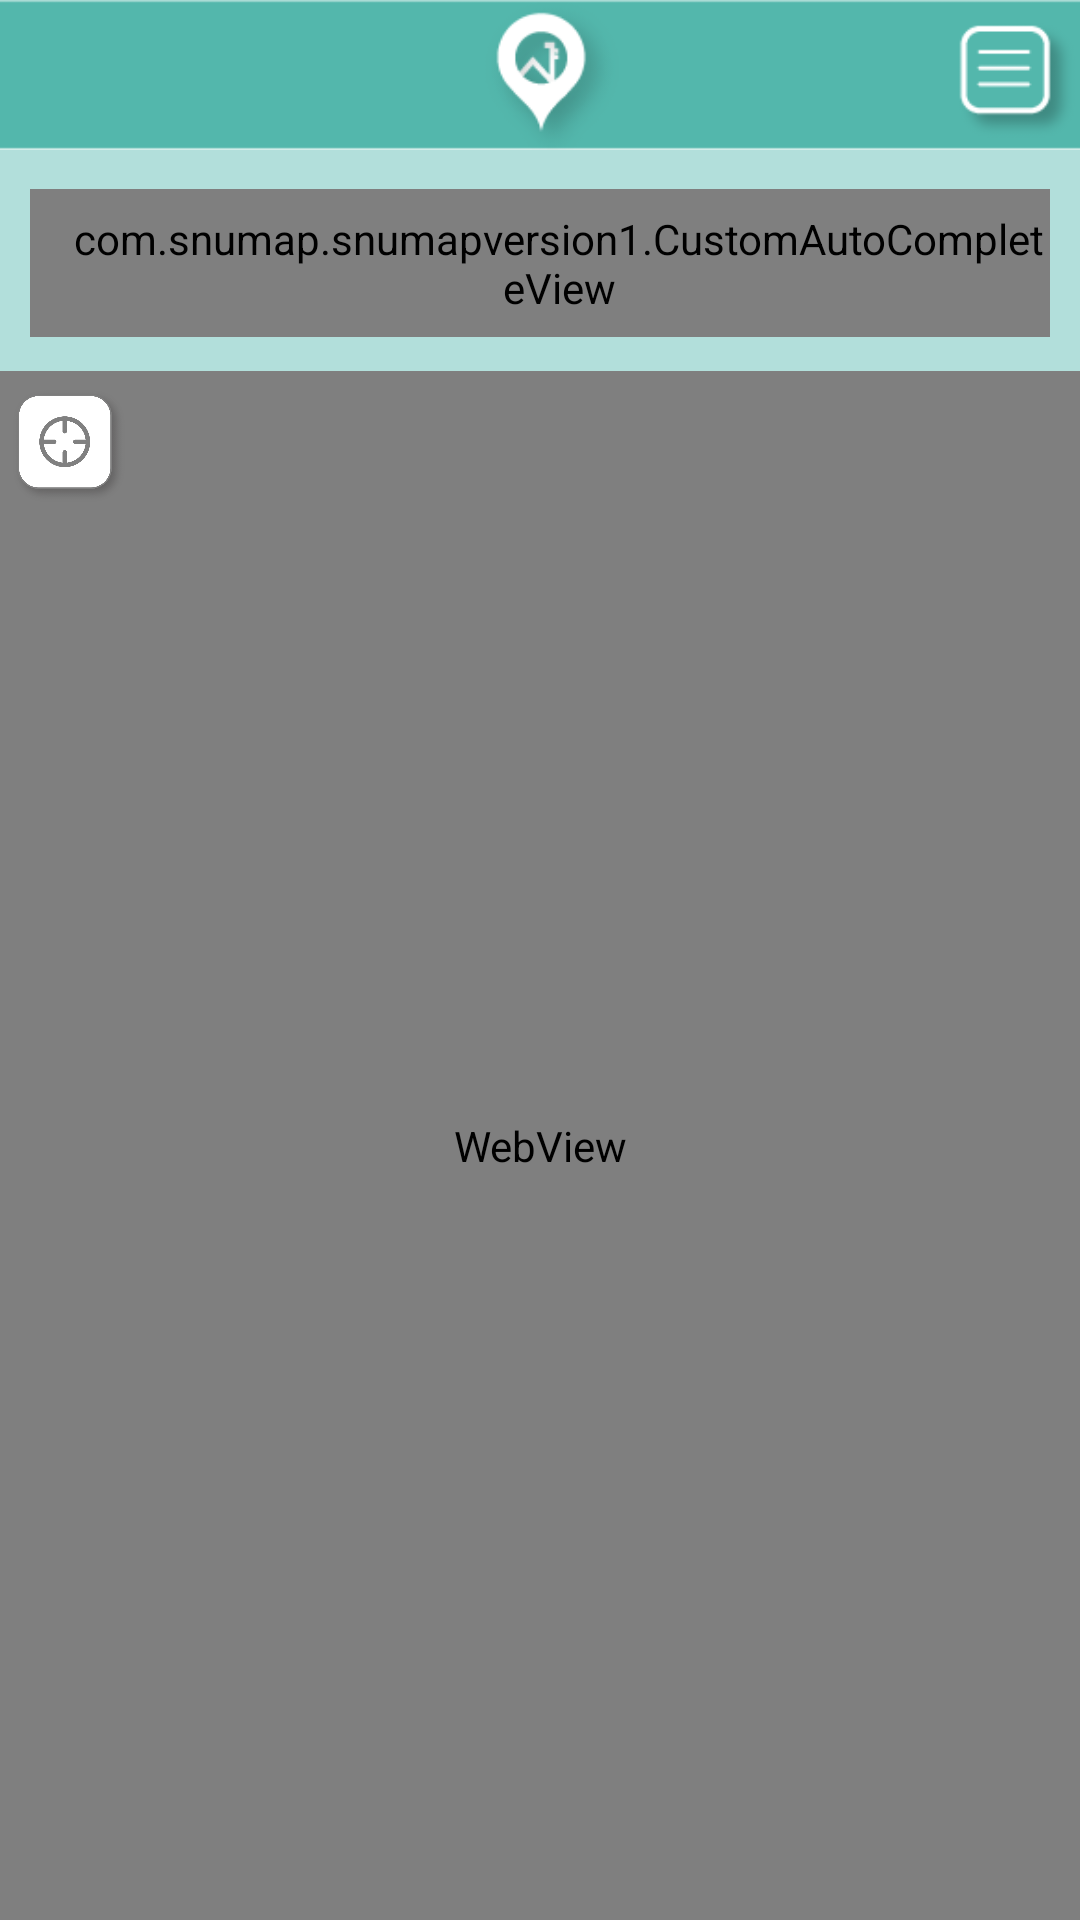

Screen size 1080*1920. Icon name, then its center in pixels as (x=x, y=y):
currentposbutton: (x=65, y=442)
